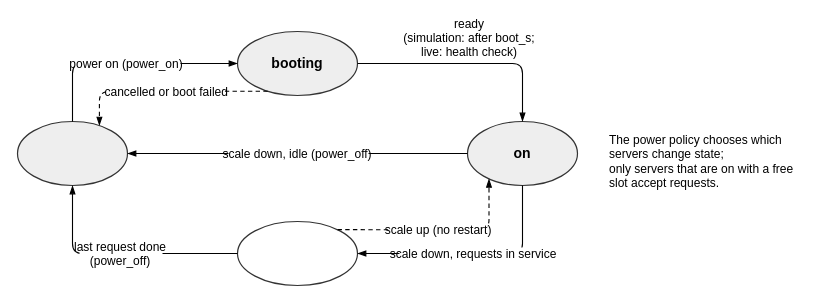
Some shapes in this 825 by 303 pixel diagram are drawn without their labels. Each missing label, with the centre of its shape:
"draining" goes at (297,253).
"off" goes at (72,153).
